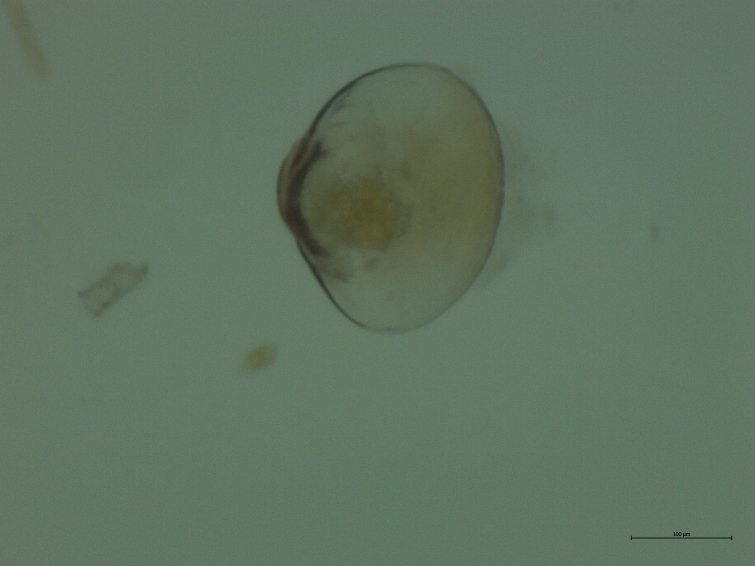oyster: (267, 57, 516, 343)
